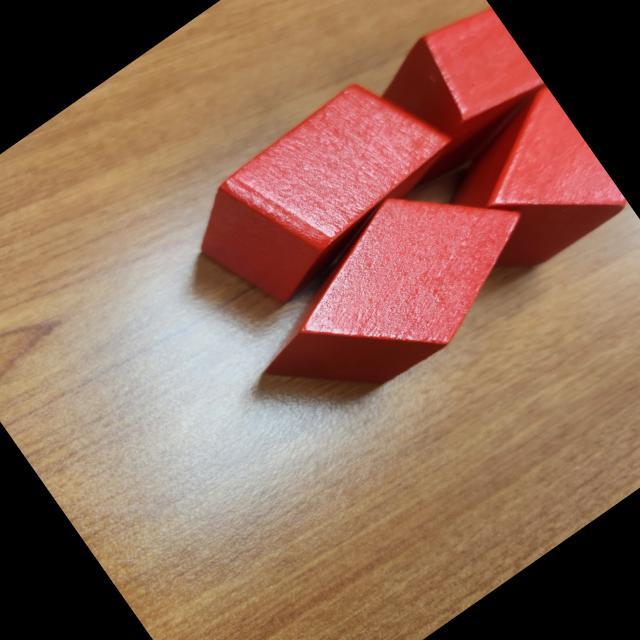red: (222, 136, 564, 440), (171, 55, 474, 326), (339, 0, 556, 199), (427, 85, 630, 288)
